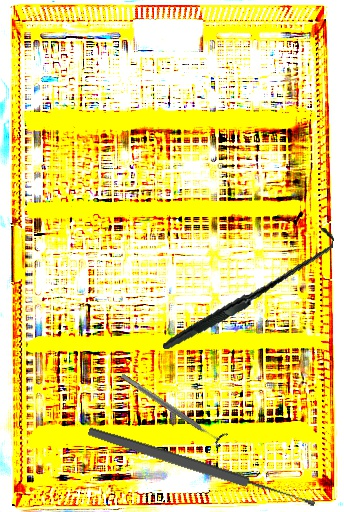Fixation Ring: (116, 367, 229, 450)
Hook Surgical: (162, 205, 336, 373)
Surgical Spoon: (86, 424, 317, 512)
